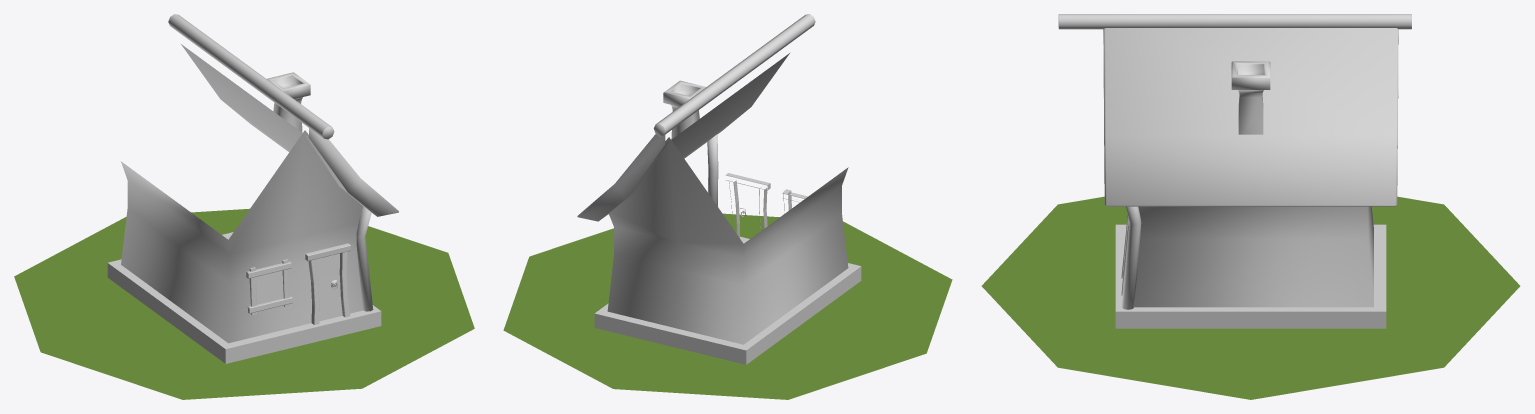
The model's file is CartoonHouse.gltf.
3 renders of one model, left to right at view 1: azimuth 30°, elevation 25°; view 2: azimuth 150°, elevation 25°; view 3: azimuth 270°, elevation 25°, orthographic. The views are drawn at different scales.
Visible parts, largest first — view 1: Plane.002, Plane, Cube.001, Plane.001, Cylinder.001, Cube, Cube.002, Cube.005, Cylinder, Cube.004, Cube.003; view 2: Plane.002, Plane, Cube.001, Plane.001, Cylinder.001, Cube.004, Cube, Cylinder; view 3: Plane.001, Plane.002, Plane, Cube.001, Cylinder.001, Cube.004, Cylinder.
Boxes of the visible parts, left/top/right/bottom form: Plane.002: left=14, top=208, right=474, bottom=399; Plane: left=121, top=130, right=362, bottom=343; Cube.001: left=107, top=232, right=381, bottom=363; Plane.001: left=181, top=44, right=398, bottom=216; Cylinder.001: left=168, top=14, right=334, bottom=139; Cube: left=305, top=243, right=350, bottom=324; Cube.002: left=316, top=253, right=342, bottom=321; Cube.005: left=246, top=259, right=292, bottom=315; Cylinder: left=356, top=206, right=373, bottom=311; Cube.004: left=267, top=72, right=310, bottom=132; Cube.003: left=256, top=270, right=283, bottom=304; Plane.002: left=503, top=213, right=952, bottom=399; Plane: left=607, top=137, right=848, bottom=344; Cube.001: left=594, top=236, right=861, bottom=364; Plane.001: left=577, top=52, right=790, bottom=221; Cylinder.001: left=653, top=14, right=815, bottom=136; Cube.004: left=663, top=80, right=705, bottom=139; Cube: left=725, top=173, right=770, bottom=237; Cylinder: left=707, top=134, right=718, bottom=206; Plane.001: left=1103, top=28, right=1398, bottom=206; Plane.002: left=981, top=196, right=1520, bottom=399; Plane: left=1134, top=206, right=1373, bottom=307; Cube.001: left=1115, top=224, right=1386, bottom=328; Cylinder.001: left=1058, top=14, right=1411, bottom=29; Cube.004: left=1231, top=61, right=1270, bottom=134; Cylinder: left=1121, top=206, right=1141, bottom=309.
Size of the model in its own units: 17.49 by 9.73 by 17.49.
